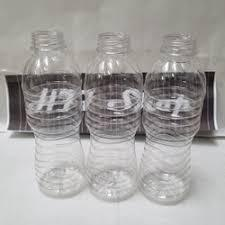BIODEGRADABLE: (0, 22, 92, 198), (79, 26, 144, 203), (144, 30, 199, 206)
